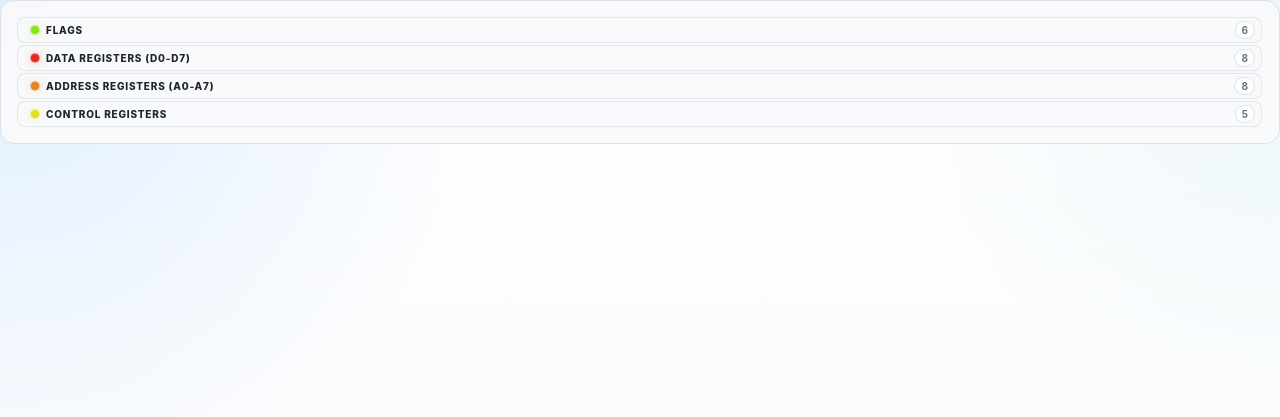
it: Registers › increments and decrements the selected full hex nibble with arrow keys
Click the button "Data Registers (D0-D7) 8" at (118, 58), box [17,45,1262,71]
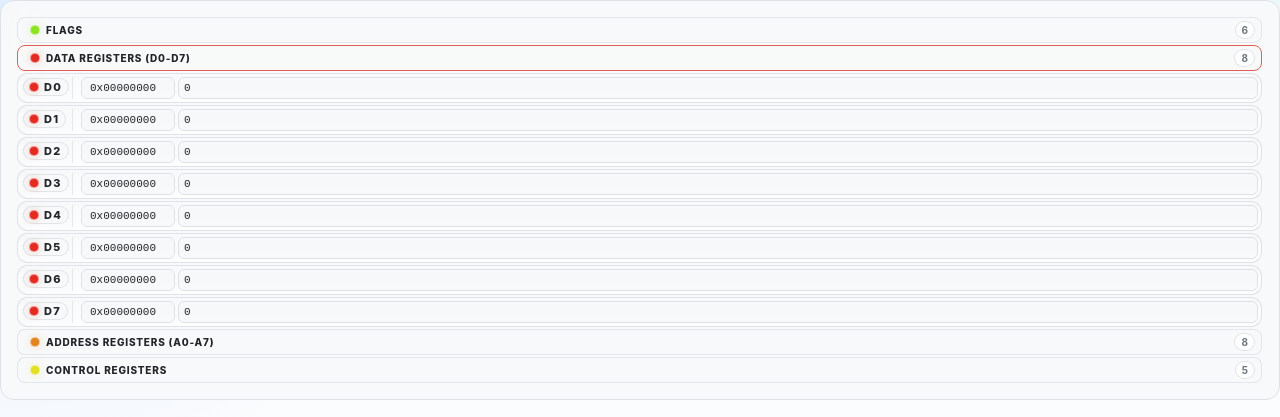
Focus the field named "D0 full hex value" at (128, 88), box [81,77,175,99]
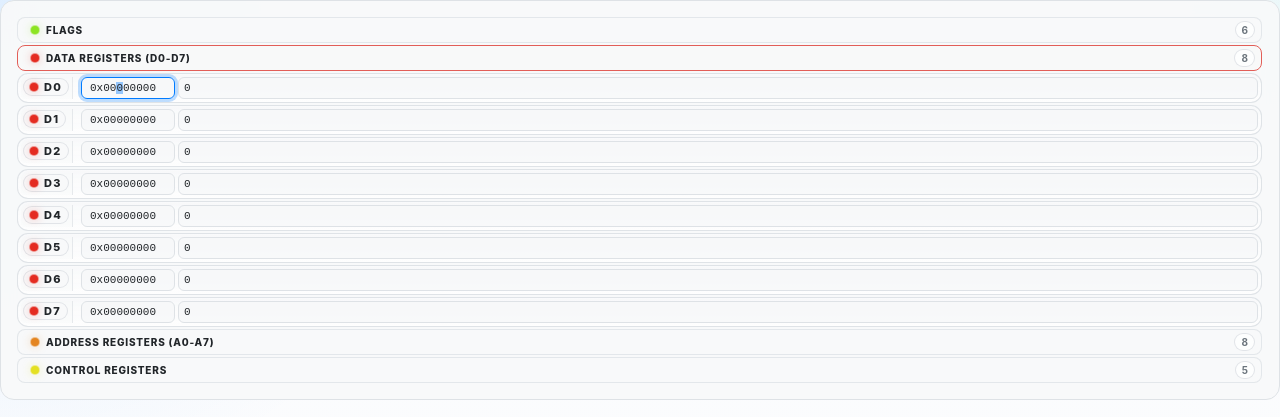
Press ArrowUp in the field named "D0 full hex value", box [81,77,175,99]
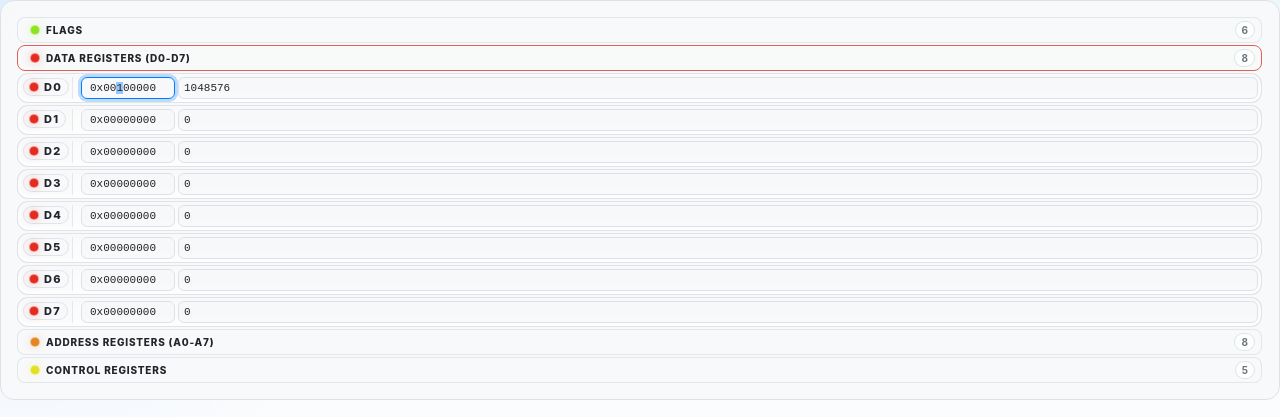
Now the field named "D0 full hex value" holds "0x00100000"
Press ArrowDown in the field named "D0 full hex value", box [81,77,175,99]
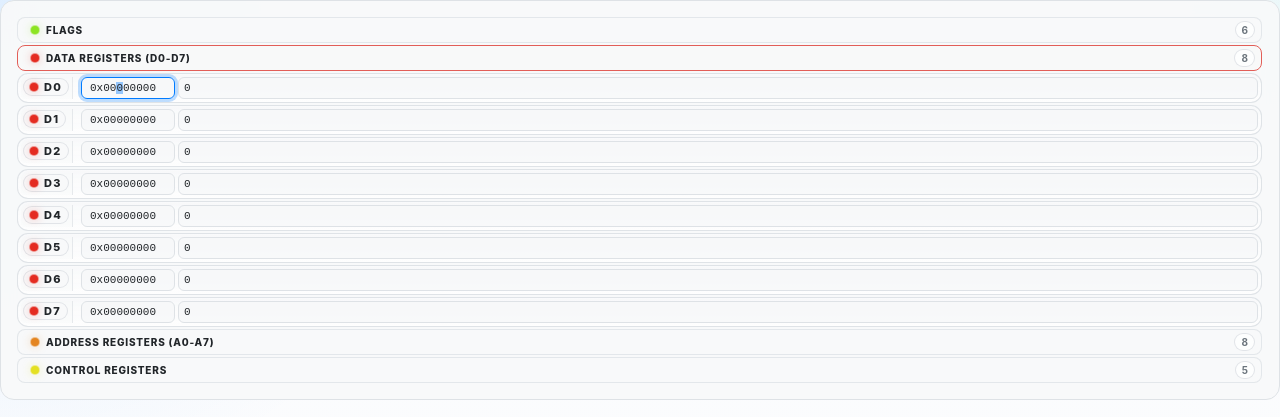
Now the field named "D0 full hex value" holds "0x00000000", box [81,77,175,99]
